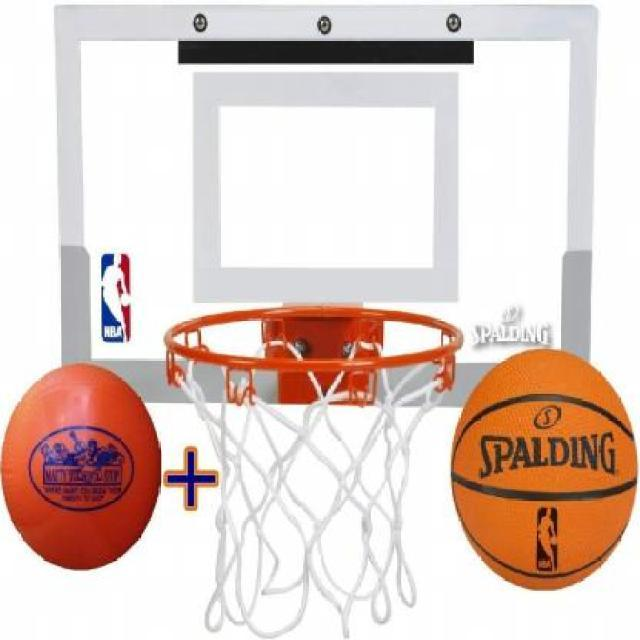basketball: (451, 348, 637, 588)
rim: (160, 310, 460, 628)
